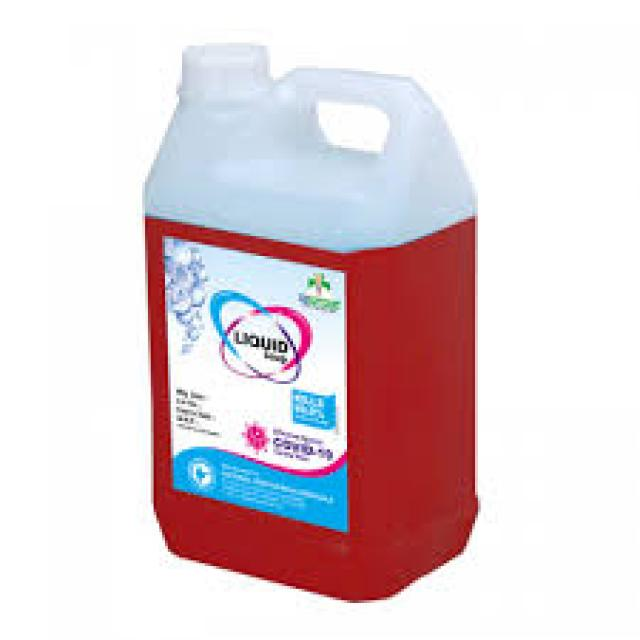liquid soap: (136, 37, 484, 606)
